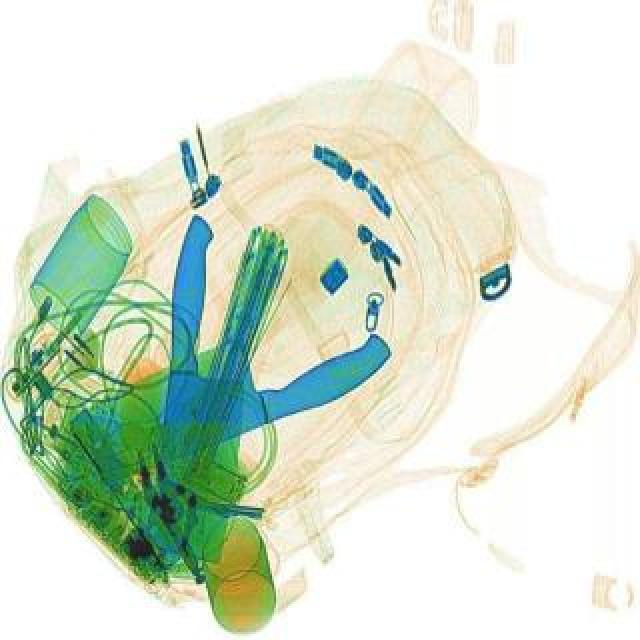knife: (62, 282, 402, 496), (136, 212, 270, 562)
